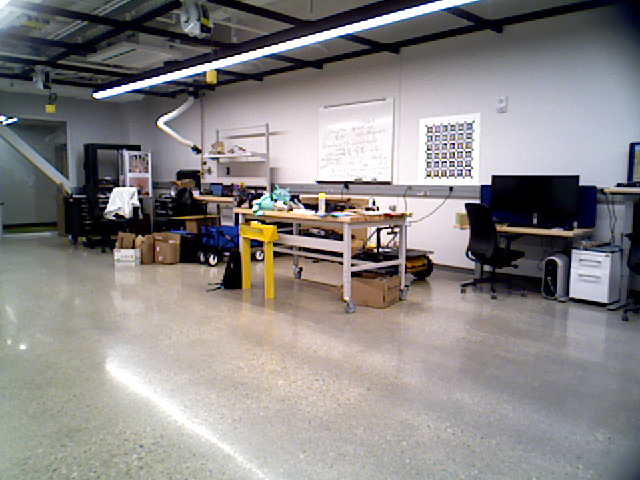painting4: (419, 118, 481, 186)
